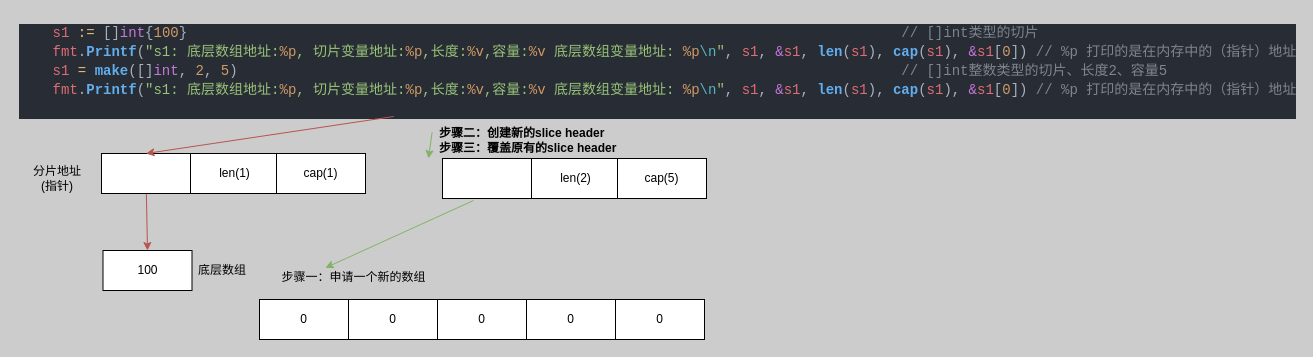
Some shapes in this 1313 by 357 pixel diagram are drawn without their labels. The centre of each missing label's shape, as x and y in pixels:
"pinter (0xc00000a078)" goes at point 145,173.
"pinter (0xc00000e510)" goes at point 487,178.
